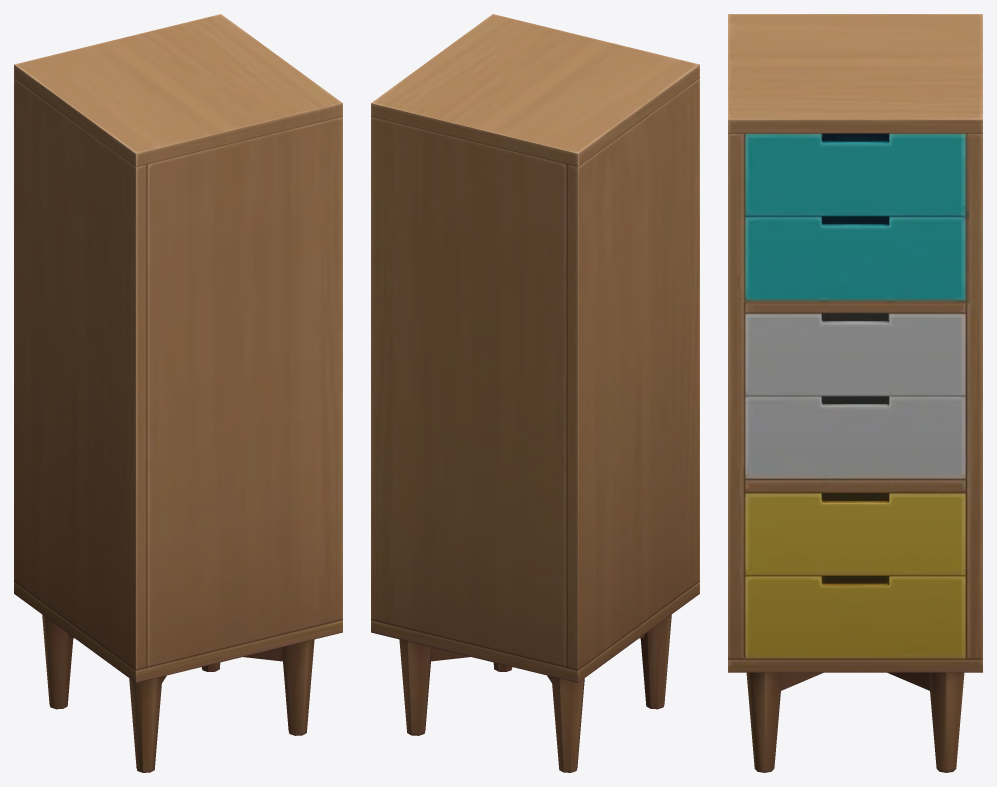
The model's file is tiny_power_tower_dresser.glb.
3 views of the same model, side by side, from view 1: azimuth 30°, elevation 25°; view 2: azimuth 150°, elevation 25°; view 3: azimuth 270°, elevation 25° (orthographic). The views are drawn at different scales.
Visible parts, largest first — view 1: Object_50; view 2: Object_50; view 3: Object_50.
Part boxes in pixels (x1,y1,x2,y2): Object_50: [14, 14, 342, 772]; Object_50: [371, 14, 699, 772]; Object_50: [728, 14, 982, 772].
Size of the model in its own units: 0.7528 by 2.21 by 0.7679.
1 material, 1 textured.
